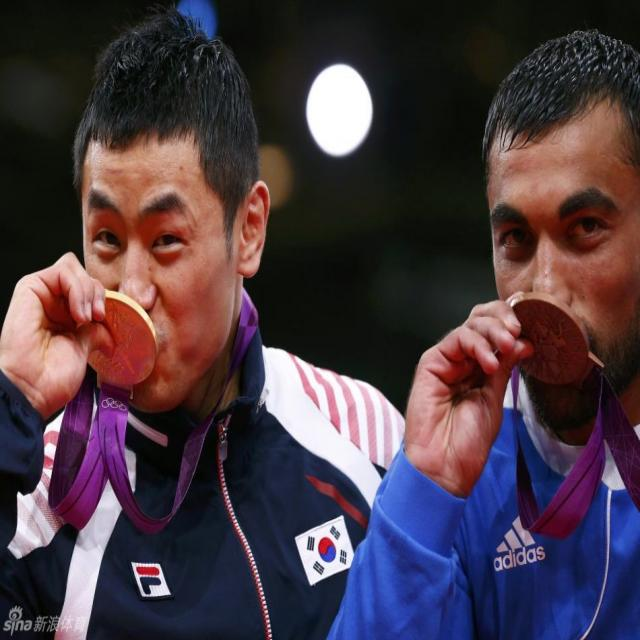nomask: (77, 130, 230, 406), (494, 120, 639, 394)
